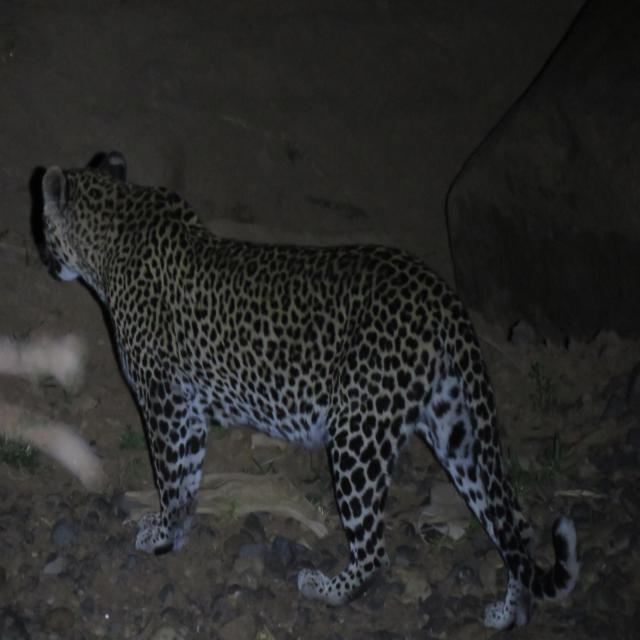Leopard: (36, 163, 583, 622)
